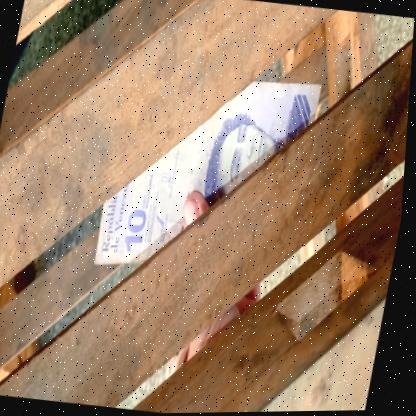ten-front-vef: (95, 61, 324, 285)
